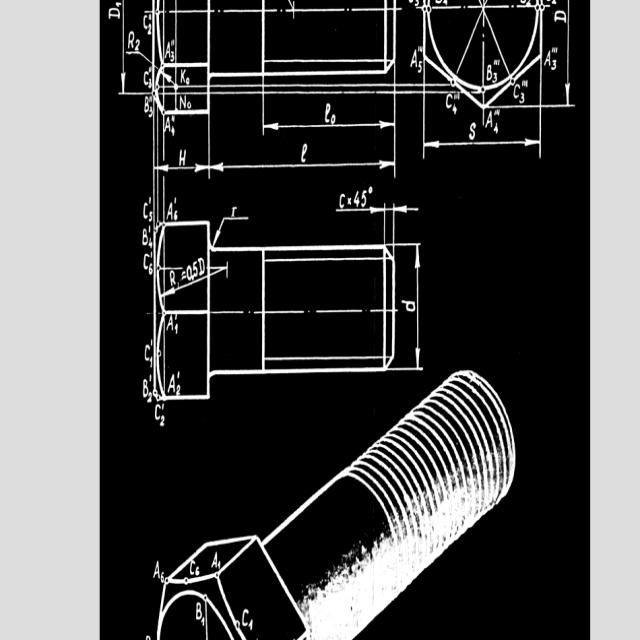marking_line: (208, 115, 398, 179), (422, 110, 542, 161), (260, 95, 397, 137), (154, 115, 211, 180), (543, 2, 576, 110), (335, 203, 420, 244), (116, 0, 152, 96), (396, 241, 422, 371), (337, 206, 386, 243), (212, 215, 248, 247), (392, 204, 420, 244), (161, 274, 207, 298), (126, 49, 151, 69), (210, 260, 230, 280), (161, 70, 173, 85)
numeric: (197, 256, 206, 276), (353, 188, 359, 207), (360, 189, 366, 207), (187, 263, 192, 281), (494, 120, 499, 137), (417, 60, 423, 74), (248, 618, 254, 632), (492, 71, 498, 84), (194, 260, 198, 278), (160, 415, 166, 427), (232, 205, 238, 217), (552, 60, 558, 71), (135, 38, 140, 50), (174, 209, 179, 221), (520, 92, 525, 104), (149, 262, 153, 276), (201, 614, 205, 628), (331, 113, 336, 124), (452, 104, 457, 115), (148, 22, 152, 35), (170, 49, 174, 62), (149, 236, 153, 249), (148, 391, 152, 404), (161, 571, 165, 584), (187, 100, 192, 110), (195, 566, 200, 576), (149, 211, 153, 223), (177, 383, 181, 395), (174, 324, 178, 334), (149, 357, 153, 367), (217, 559, 221, 569), (148, 78, 151, 90), (149, 106, 152, 117), (187, 76, 190, 85)
special_symbol: (368, 186, 374, 195)
